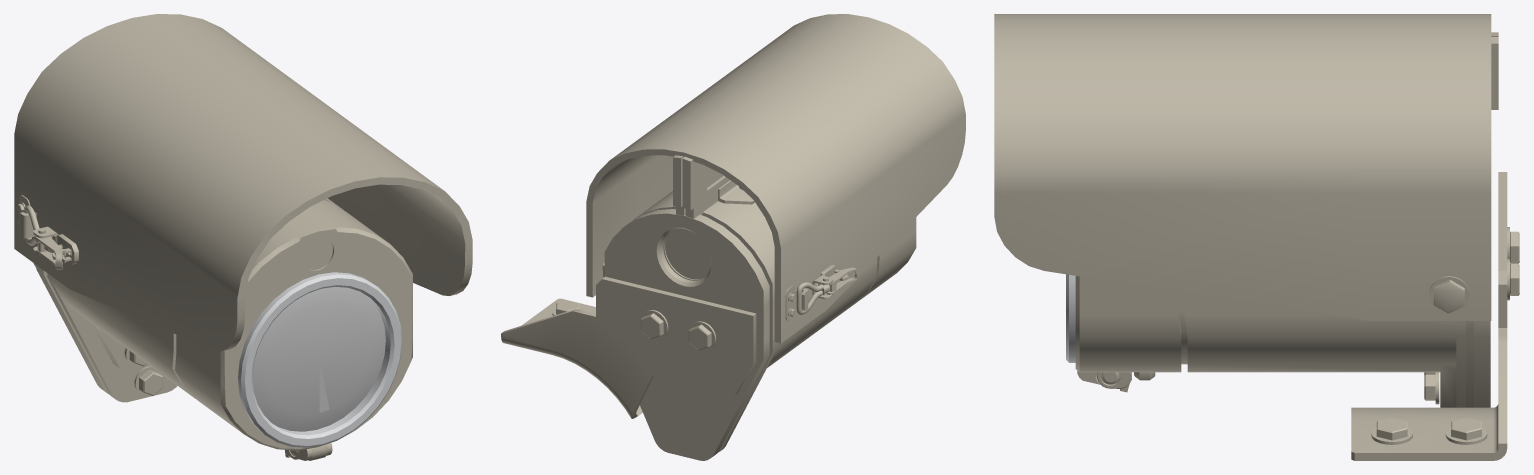
Rendered from weapon02.fbx.
3 views of the same model, side by side, from view 1: azimuth 30°, elevation 25°; view 2: azimuth 150°, elevation 25°; view 3: azimuth 270°, elevation 25° (orthographic). The views are drawn at different scales.
Visible parts, largest first — view 1: BlackPhoenix_Full_3D_KitBashLibrary_2014Update_MechAttachmen (×3); view 2: BlackPhoenix_Full_3D_KitBashLibrary_2014Update_MechAttachmen; view 3: BlackPhoenix_Full_3D_KitBashLibrary_2014Update_MechAttachmen (×2).
Part boxes in pixels (bbox=[...]): BlackPhoenix_Full_3D_KitBashLibrary_2014Update_MechAttachmen (×3): bbox=[14, 14, 472, 460]; BlackPhoenix_Full_3D_KitBashLibrary_2014Update_MechAttachmen: bbox=[501, 14, 965, 460]; BlackPhoenix_Full_3D_KitBashLibrary_2014Update_MechAttachmen (×2): bbox=[994, 14, 1519, 460].
Size of the model in its own units: 4.41 by 4.35 by 5.05.
